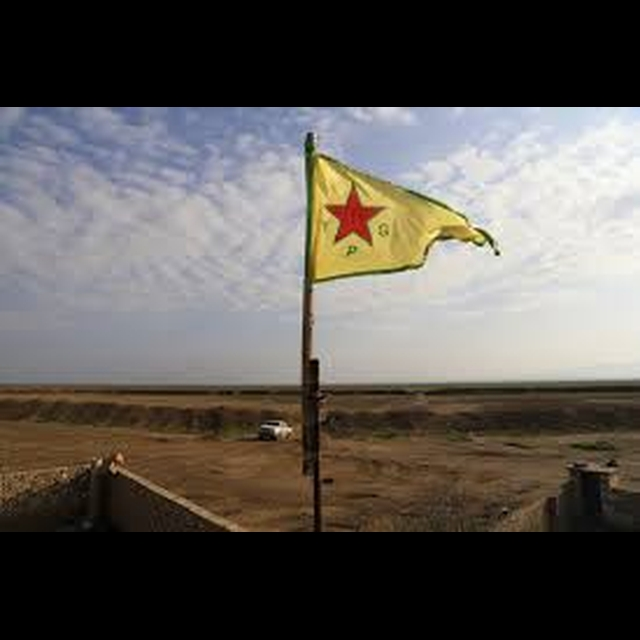YPG: (316, 180, 400, 265)
